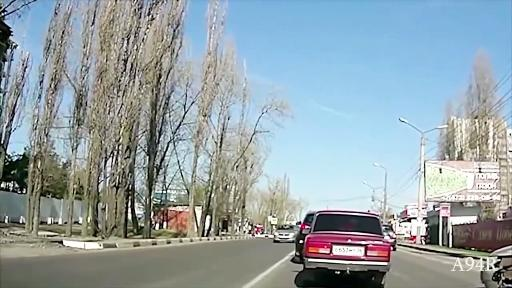CAR: (291, 208, 396, 288), (261, 210, 295, 252)
